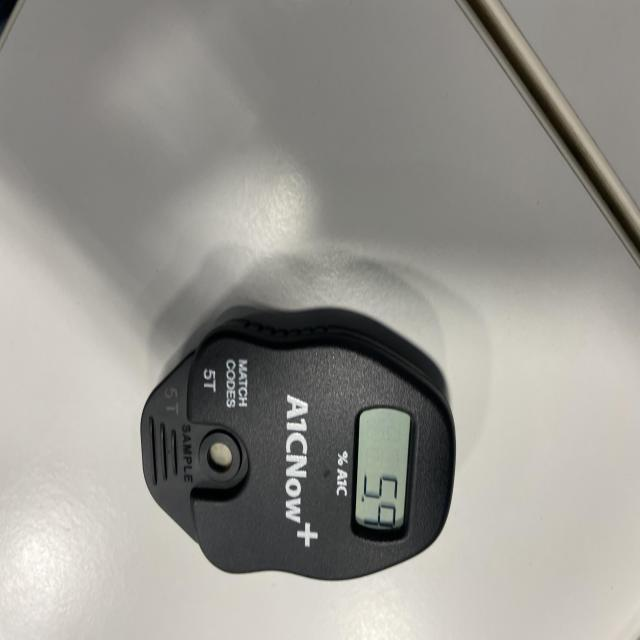hba1c: (138, 305, 458, 585)
